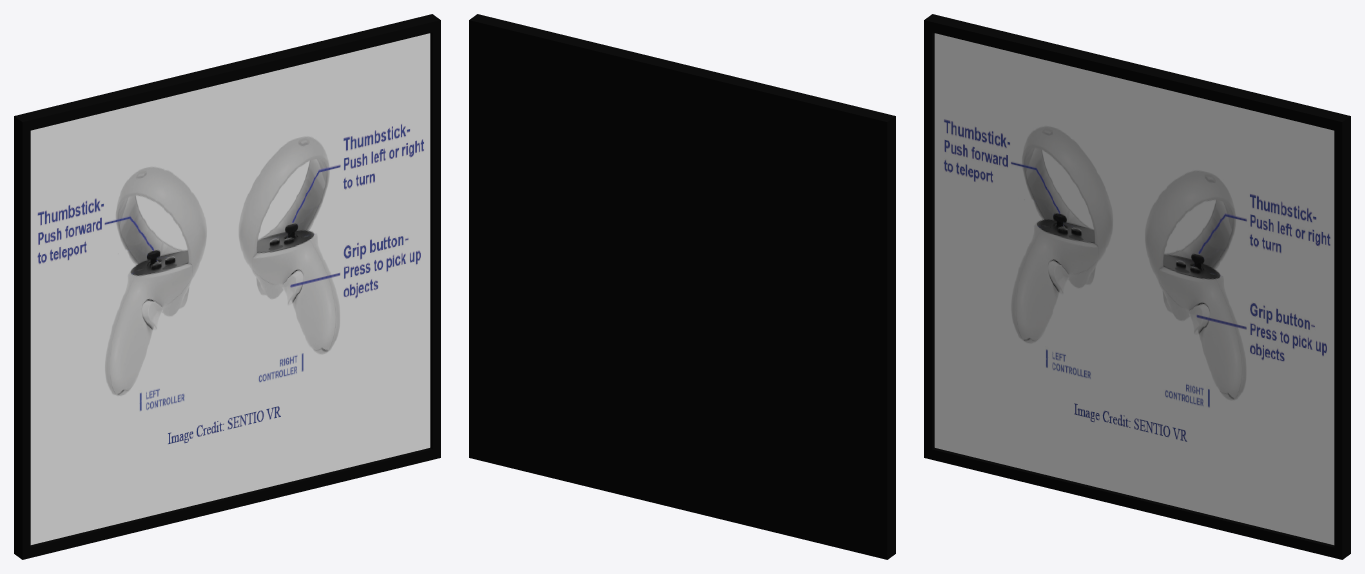
File: ControlBoard.fbx
The picture shows the model from 3 angles, left to right: view 1: azimuth 30°, elevation 25°; view 2: azimuth 150°, elevation 25°; view 3: azimuth 330°, elevation 25°; orthographic projection.
Visible parts, largest first — view 1: ControlBoard; view 2: ControlBoard; view 3: ControlBoard.
Part boxes in pixels (bbox=[...]): ControlBoard: bbox=[14, 14, 440, 559]; ControlBoard: bbox=[469, 14, 895, 559]; ControlBoard: bbox=[924, 14, 1350, 559].
Bounding box in the file's own units: 4 × 4 × 0.1385.
